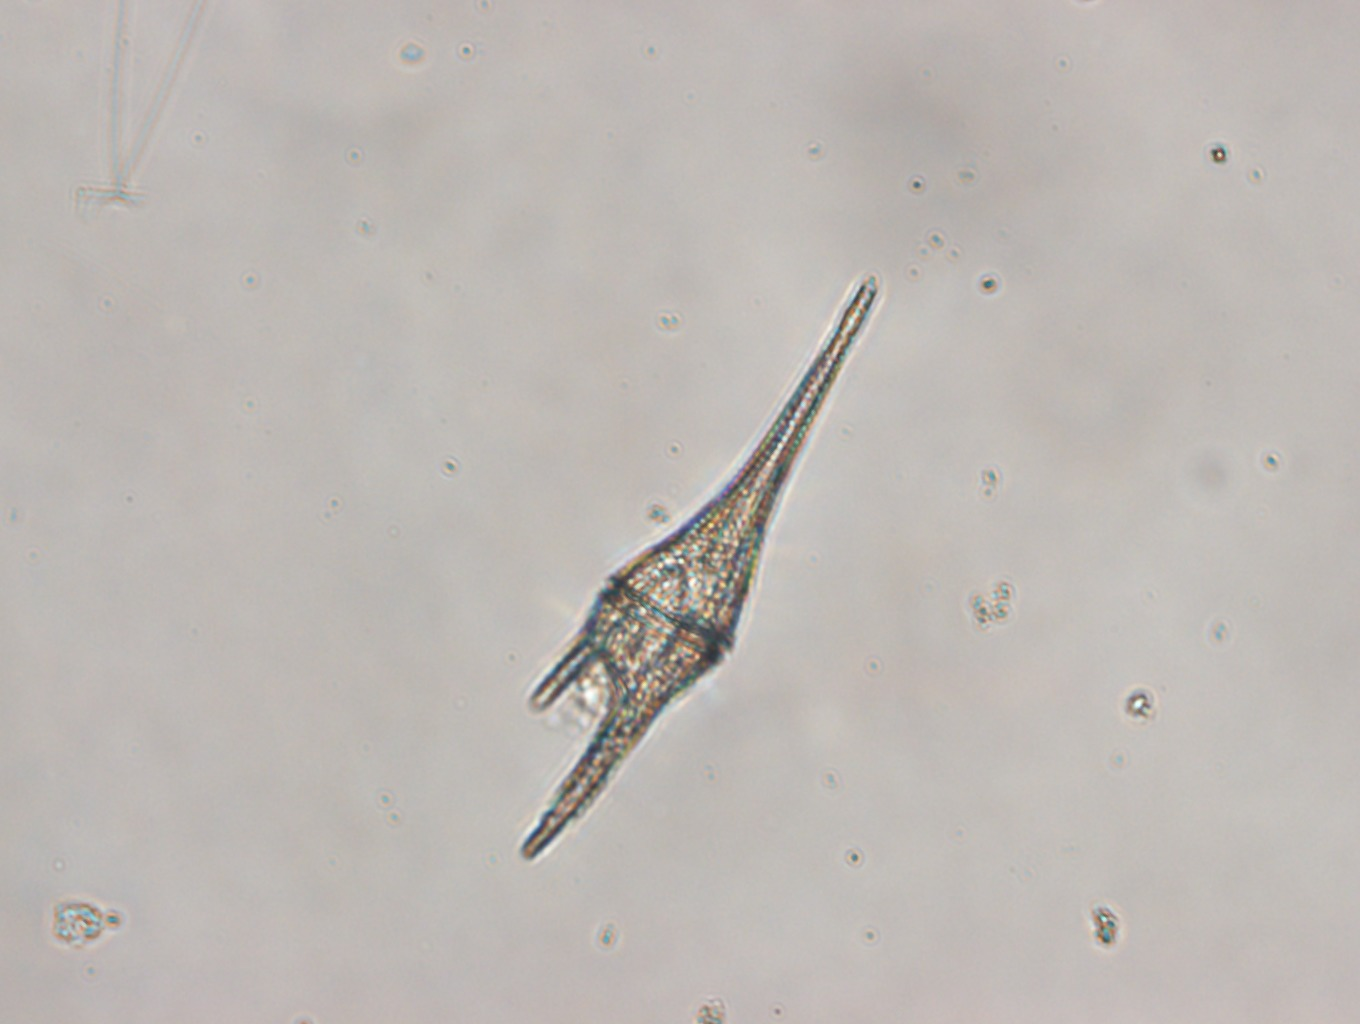ceratium furca: (520, 269, 883, 864)
